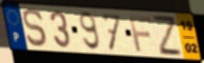3: (49, 9, 72, 50)
7: (102, 13, 123, 53)
9: (78, 10, 102, 53)
F: (128, 15, 153, 54)
S: (21, 7, 49, 48)
Z: (150, 14, 185, 58)
